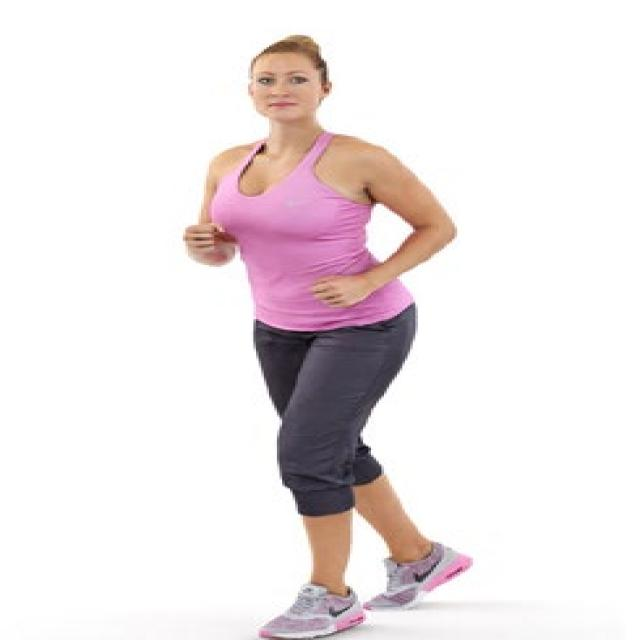running: (177, 29, 472, 640)
